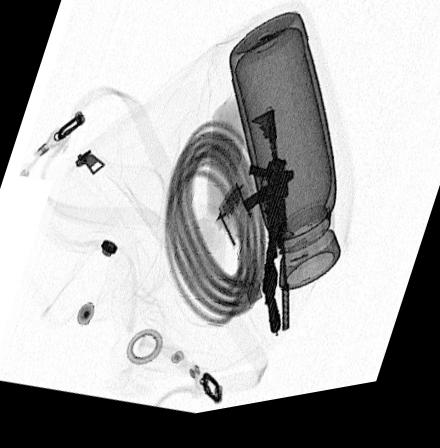Gun: (241, 117, 296, 341), (261, 228, 281, 343)
